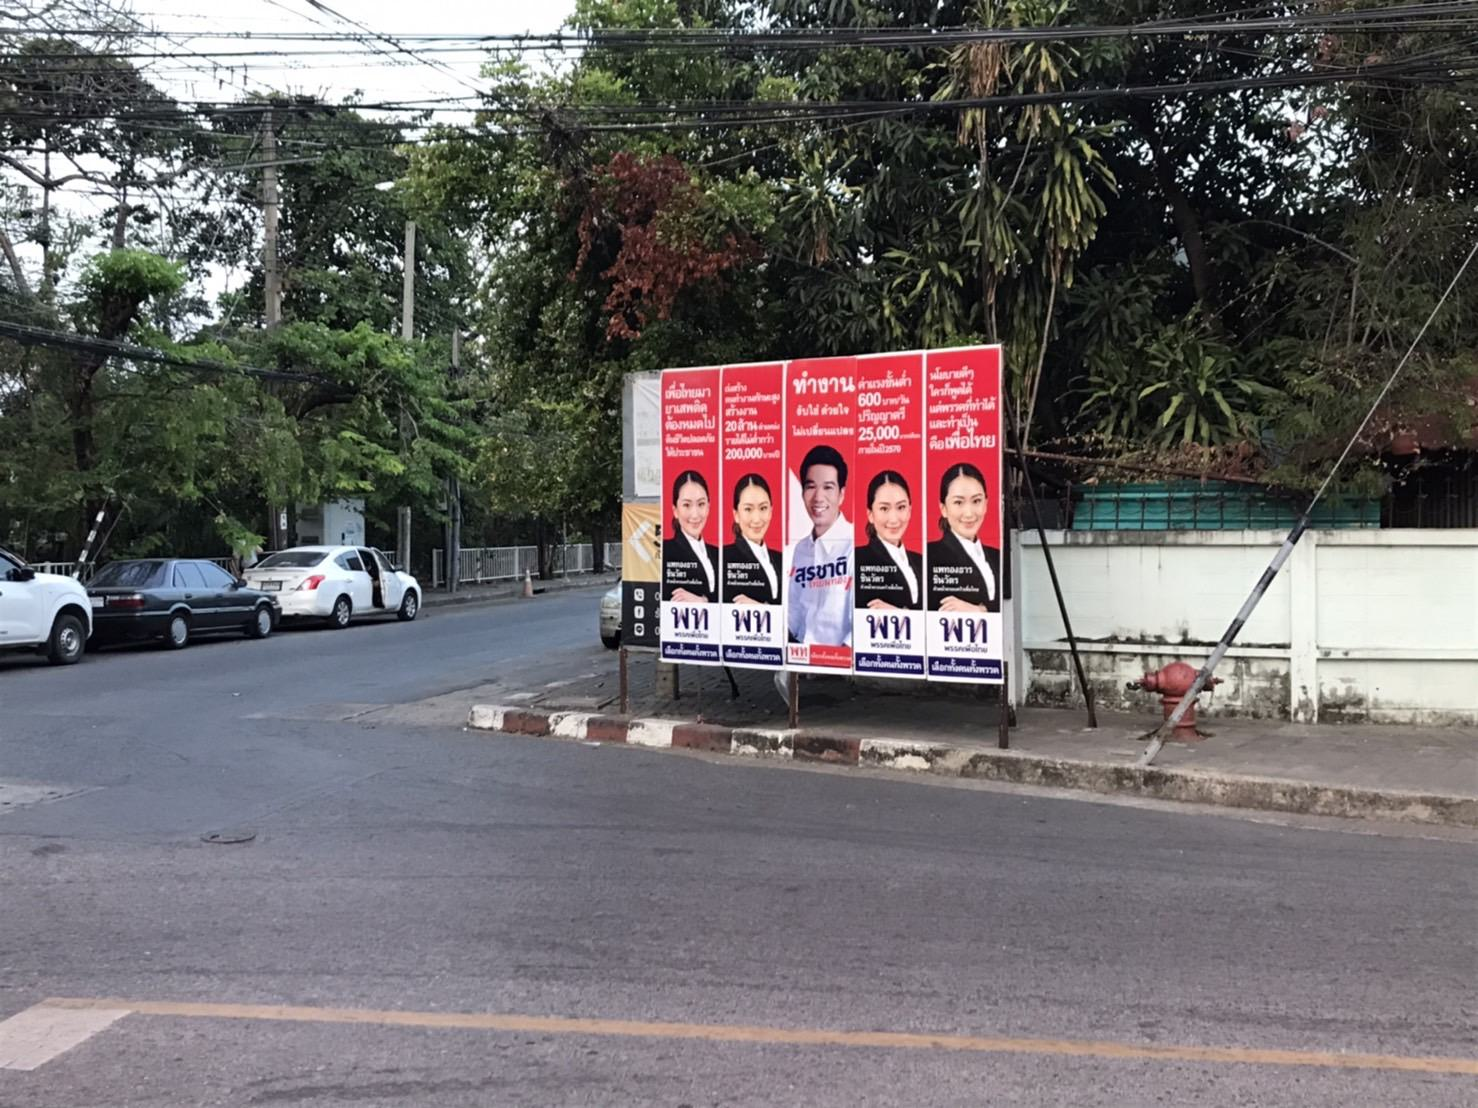Banner: (924, 345, 1008, 696), (786, 349, 864, 691), (861, 349, 928, 691), (651, 365, 722, 672), (719, 356, 782, 679)
